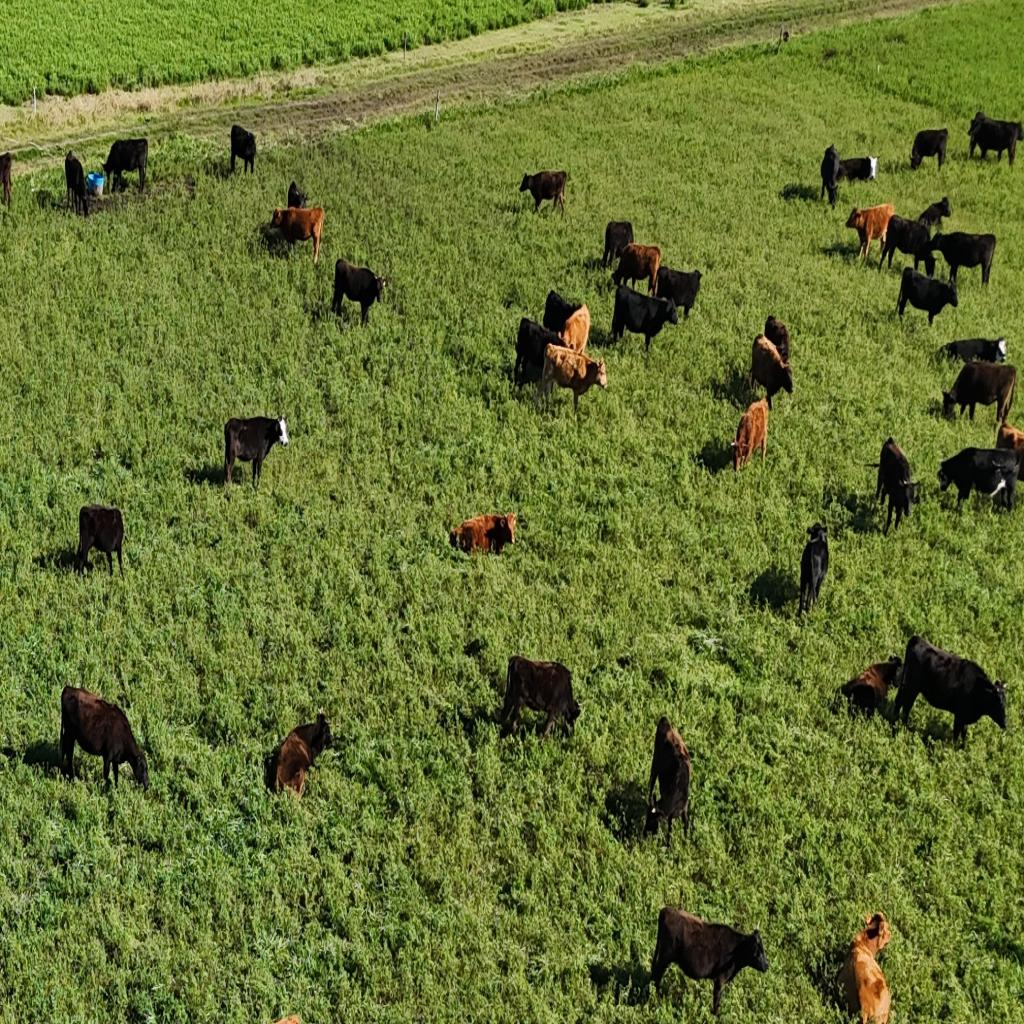cow: (893, 636, 1008, 748), (651, 908, 766, 1019), (57, 687, 149, 795), (732, 315, 794, 472), (838, 908, 895, 1024), (500, 656, 578, 740), (646, 715, 694, 849), (936, 446, 1020, 518), (266, 710, 332, 801), (222, 412, 292, 497), (938, 359, 1016, 426), (539, 342, 608, 416), (610, 282, 679, 354), (874, 435, 922, 535), (930, 231, 997, 294), (74, 503, 127, 581), (841, 657, 904, 722), (331, 257, 388, 328), (897, 267, 960, 330), (266, 205, 324, 267), (882, 214, 941, 274), (968, 111, 1023, 168), (845, 202, 894, 264), (516, 317, 560, 385), (798, 522, 829, 618), (451, 511, 515, 557), (100, 136, 148, 196), (653, 266, 702, 322), (612, 243, 661, 296), (518, 168, 568, 217), (940, 336, 1007, 367), (909, 127, 949, 173), (601, 217, 634, 271), (64, 151, 90, 218), (543, 290, 582, 334), (996, 420, 1024, 480), (229, 122, 257, 176), (609, 283, 633, 343), (820, 143, 842, 208), (763, 314, 790, 364), (835, 155, 877, 184), (916, 196, 952, 229), (454, 522, 480, 556), (0, 152, 14, 210), (775, 360, 794, 397), (287, 180, 309, 210), (65, 151, 80, 183)
